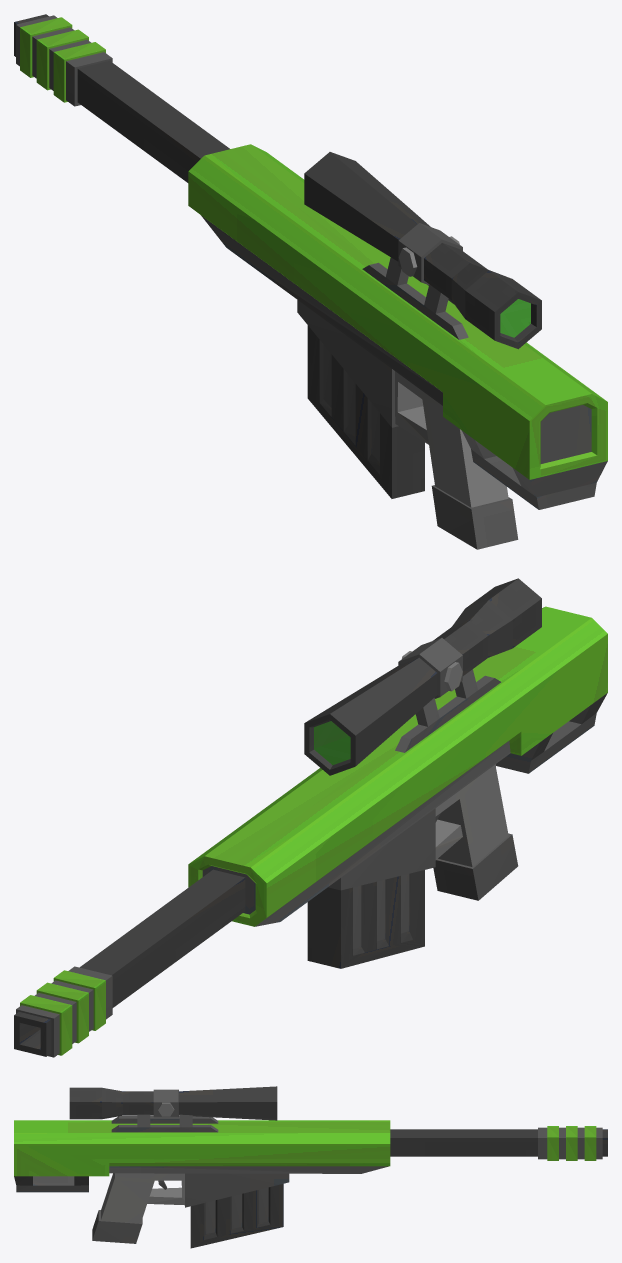
The model's file is sniper_2.glb.
3 renders of one model, top to bottom at view 1: azimuth 30°, elevation 25°; view 2: azimuth 150°, elevation 25°; view 3: azimuth 270°, elevation 25°, orthographic. The views are drawn at different scales.
Parts seen in each view (by area): view 1: sniper_2; view 2: sniper_2; view 3: sniper_2.
Boxes of the visible parts, x1=… form: sniper_2: x1=14, y1=14, x2=607, y2=549; sniper_2: x1=14, y1=578, x2=607, y2=1057; sniper_2: x1=14, y1=1086, x2=607, y2=1248.
Size of the model in its own units: 0.0705 by 0.2456 by 0.8387.
1 material, 1 textured.
